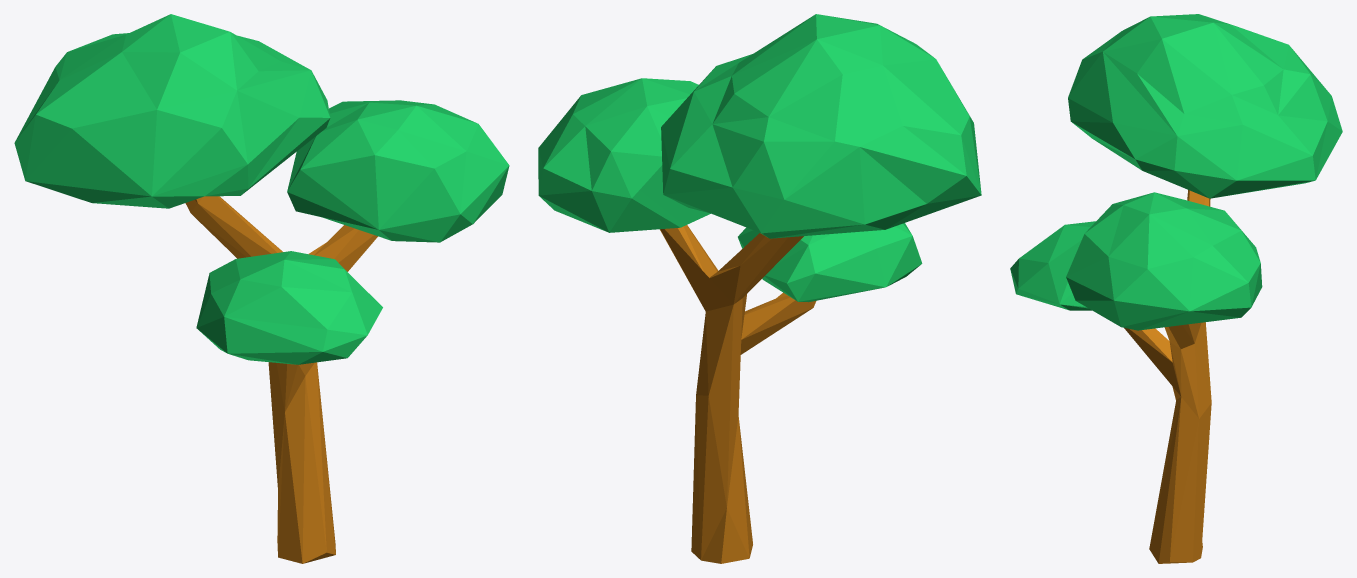
File: Tree2.gltf
The picture shows the model from 3 angles, left to right: view 1: azimuth 30°, elevation 25°; view 2: azimuth 150°, elevation 25°; view 3: azimuth 270°, elevation 25°; orthographic projection. The views are drawn at different scales.
Parts seen in each view (by area): view 1: leaves_Icosphere, trunk_Cube; view 2: leaves_Icosphere, trunk_Cube; view 3: leaves_Icosphere, trunk_Cube.
Part boxes in pixels (<box>): leaves_Icosphere: <box>14,14,509,364</box>; trunk_Cube: <box>185,196,377,563</box>; leaves_Icosphere: <box>538,14,981,302</box>; trunk_Cube: <box>660,225,816,563</box>; leaves_Icosphere: <box>1010,14,1342,330</box>; trunk_Cube: <box>1124,190,1211,563</box>.
Size of the model in its own units: 1.84 by 2.18 by 1.36.
